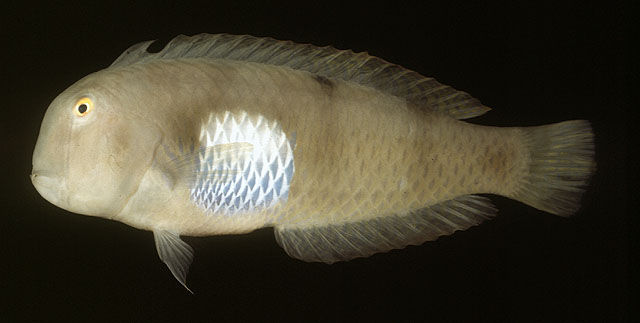fish: (30, 34, 596, 294)
